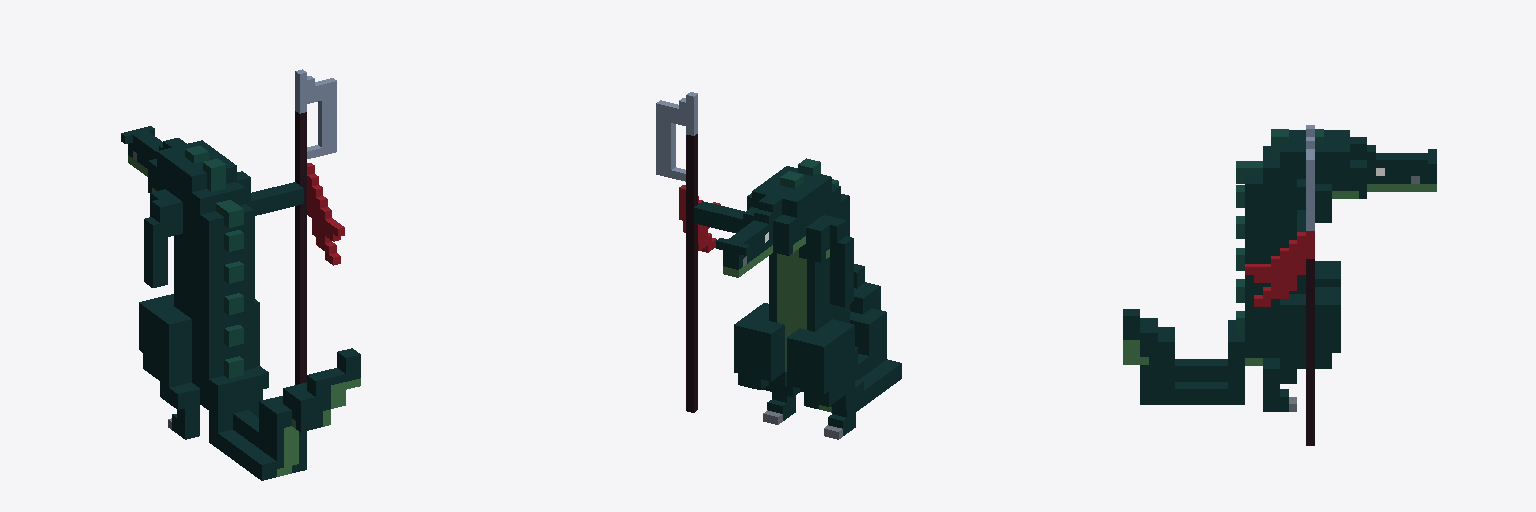
3 views of the same model, side by side, from view 1: azimuth 30°, elevation 25°; view 2: azimuth 150°, elevation 25°; view 3: azimuth 270°, elevation 25° (orthographic).
Parts seen in each view (by area): view 1: object 1; view 2: object 1; view 3: object 1.
Part boxes in pixels (left/top/right/bottom): object 1: left=121, top=69, right=360, bottom=480; object 1: left=656, top=92, right=901, bottom=439; object 1: left=1123, top=125, right=1436, bottom=445.
Bounding box in the file's own units: 2.5 × 4 × 3.6.
Materials: 1 (1 with a texture image).